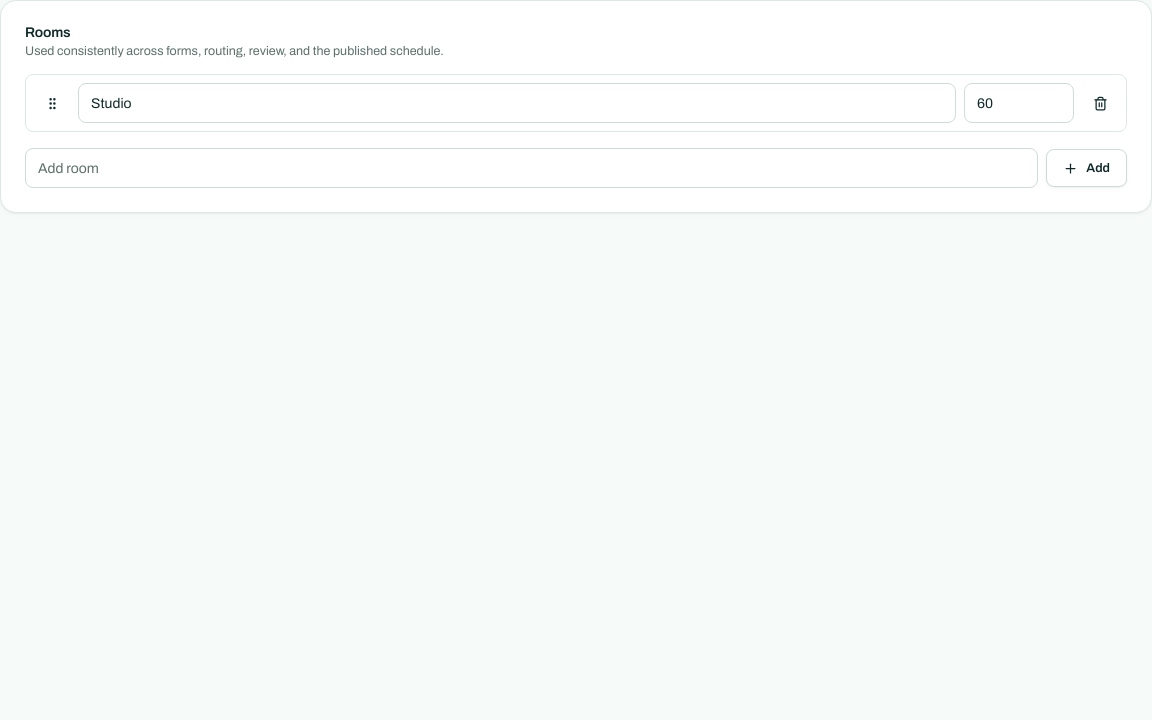
Test: vocabulary delete confirmation copy › names the sessions and speakers this particular room delete will reach
The width and height of the screenshot is (1152, 720).
Click the button named "Remove Studio" at (1100, 103), box [1082,85,1118,121]
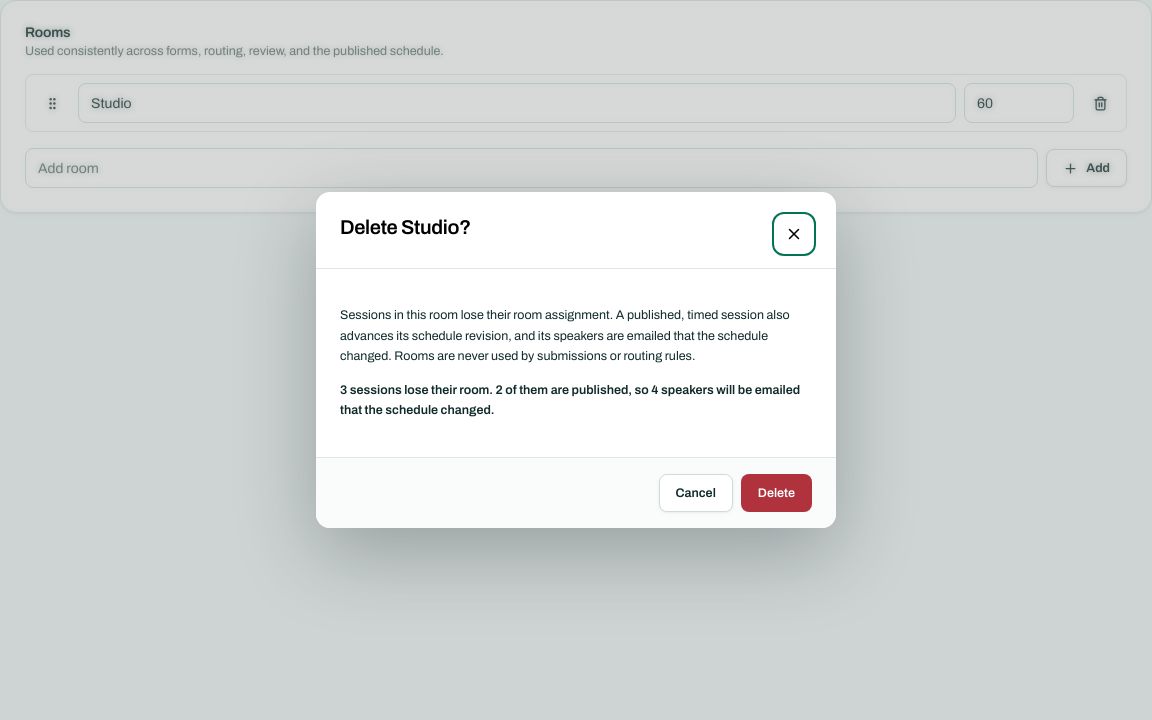
Expected: the element with class "long-copy" shows "3 sessions lose their room", [340,383,800,417]
Expected: the element with class "long-copy" shows "2 of them are published", [340,383,800,417]
Expected: the element with class "long-copy" shows "4 speakers will be emailed", [340,383,800,417]
